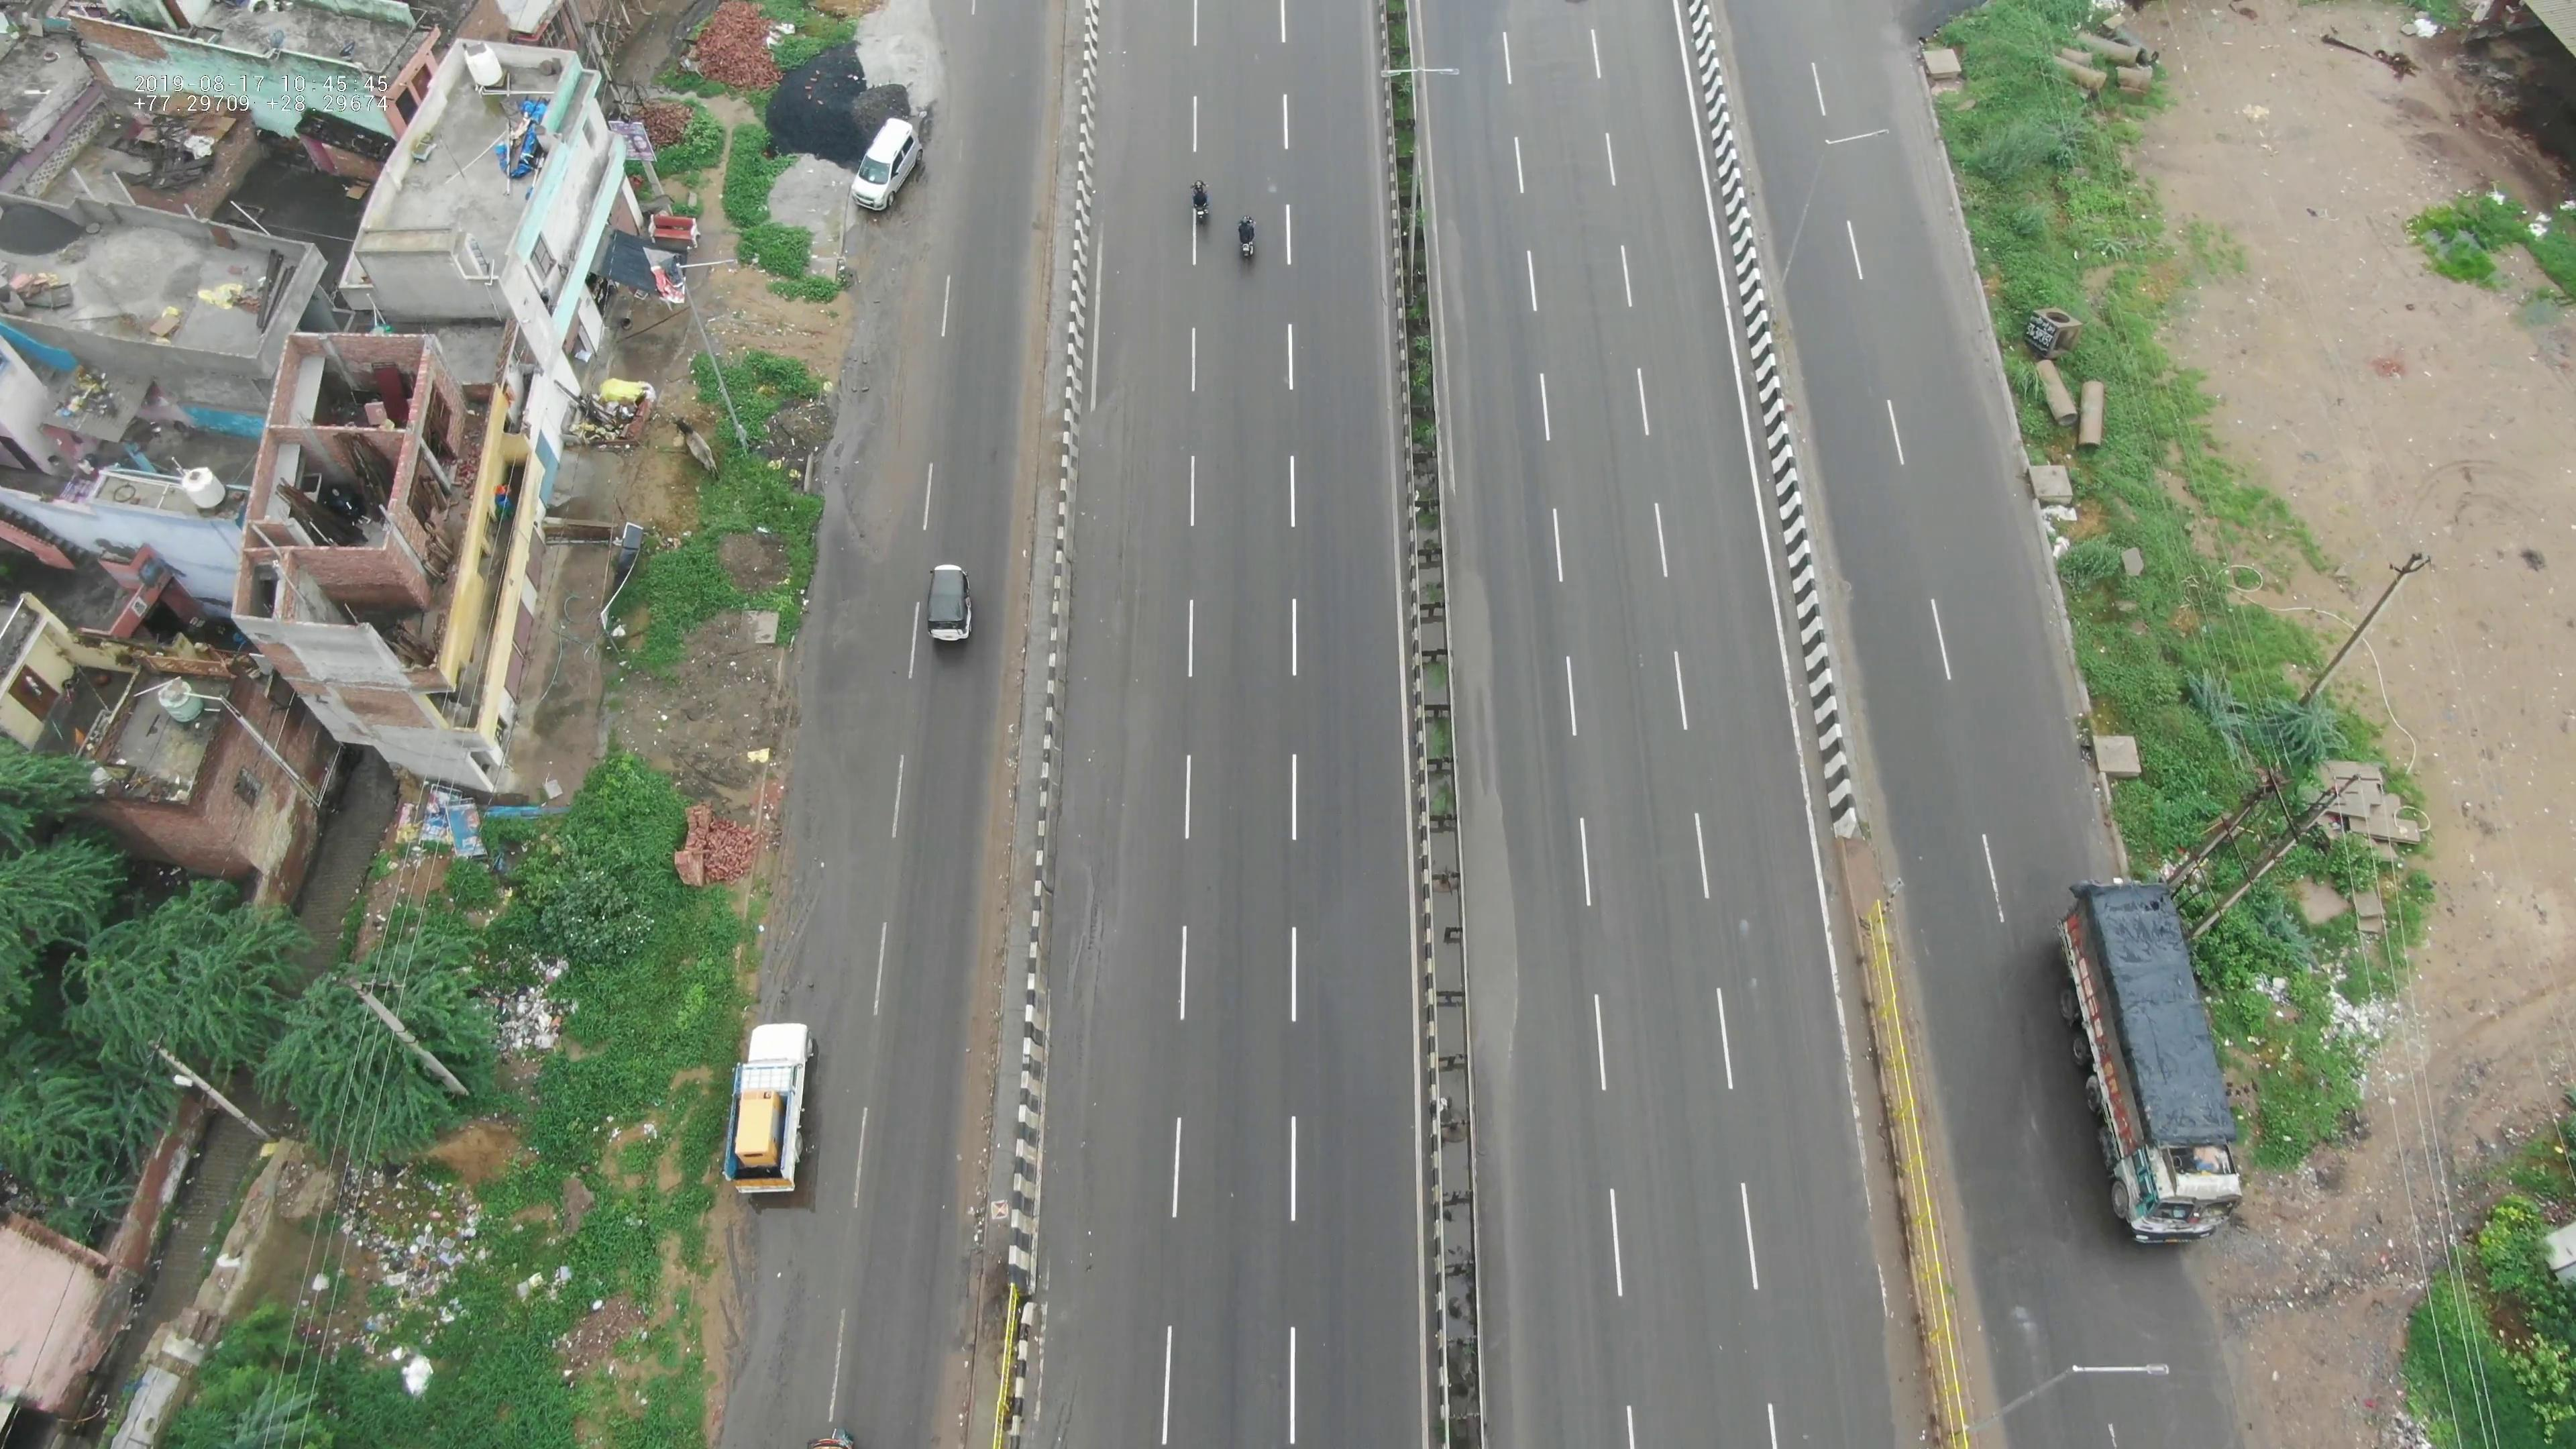Mud_Heaps: (812, 0, 970, 111)
Mud_heaps: (748, 357, 849, 476)
